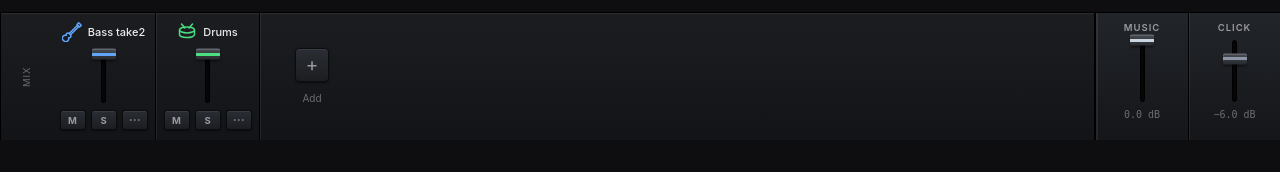
it: while a channel is being split into stems › still lets another channel be trimmed
Click the button "⋯" below "Bass take2" at (134, 120), box top-left (122, 110), bottom-right (148, 130)
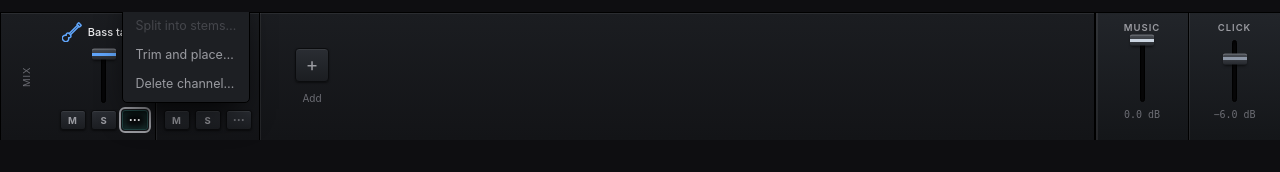
Result: the menu item "Trim and place…" is enabled at top-left (126, 40), bottom-right (245, 69)
